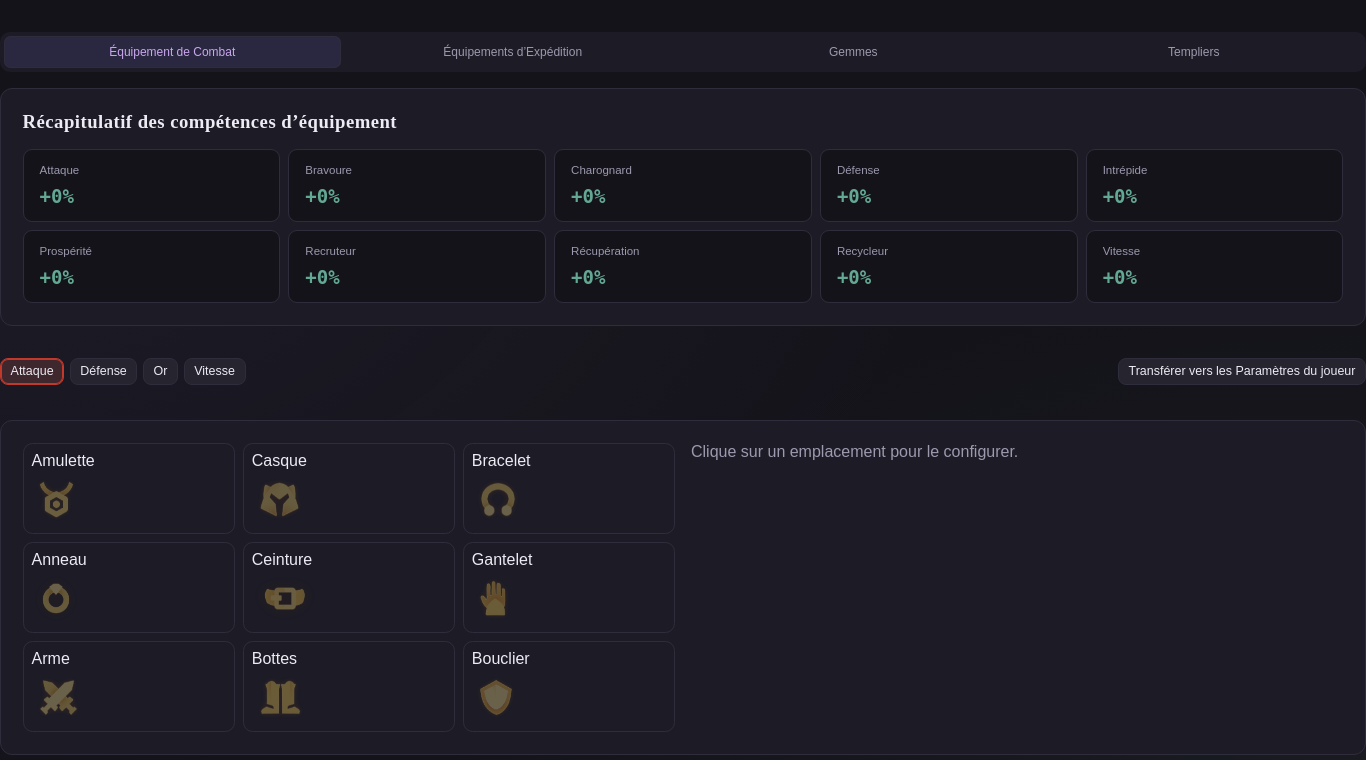
SkillsCalculators › shows the budget distribution as the primary result
Click the tab "Gemmes" at (853,52), box [685, 36, 1022, 68]
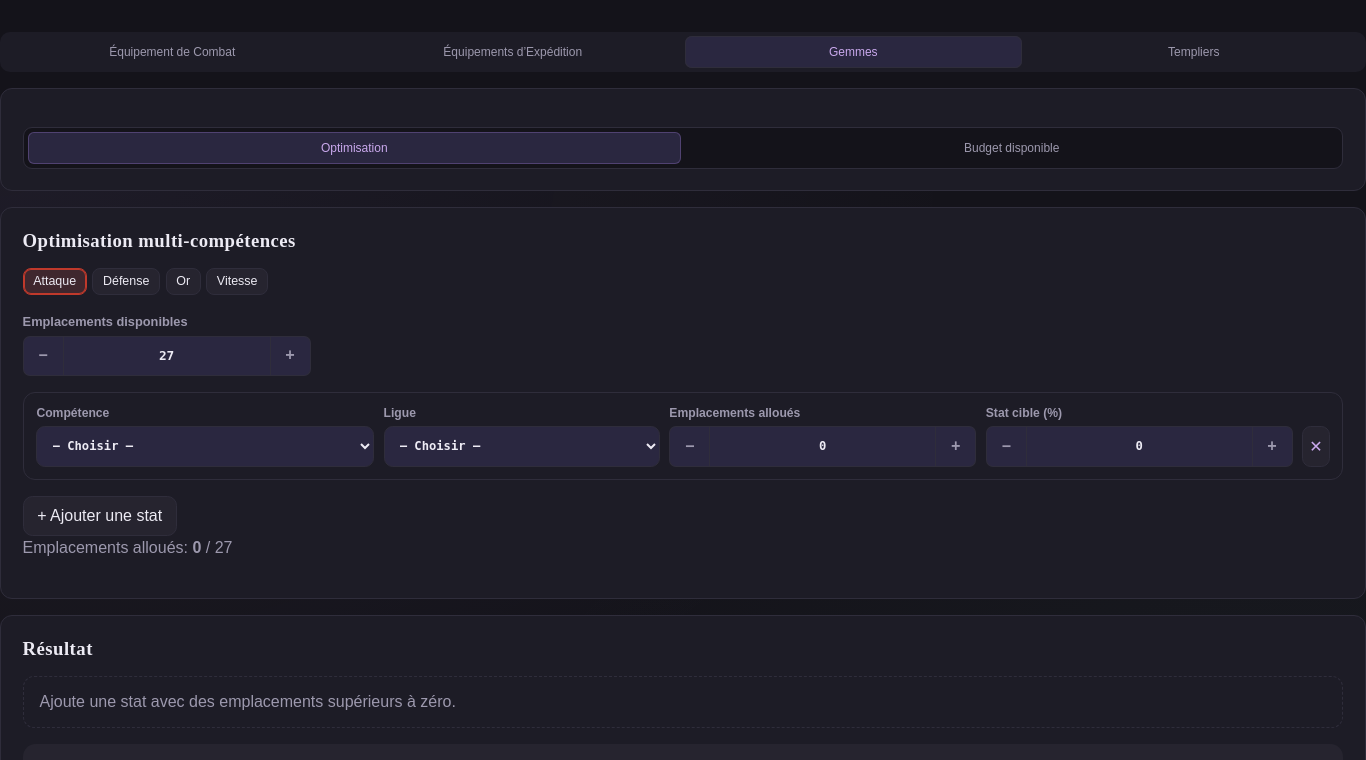
Click the tab "Budget disponible" at (1012,148), box [685, 132, 1338, 164]
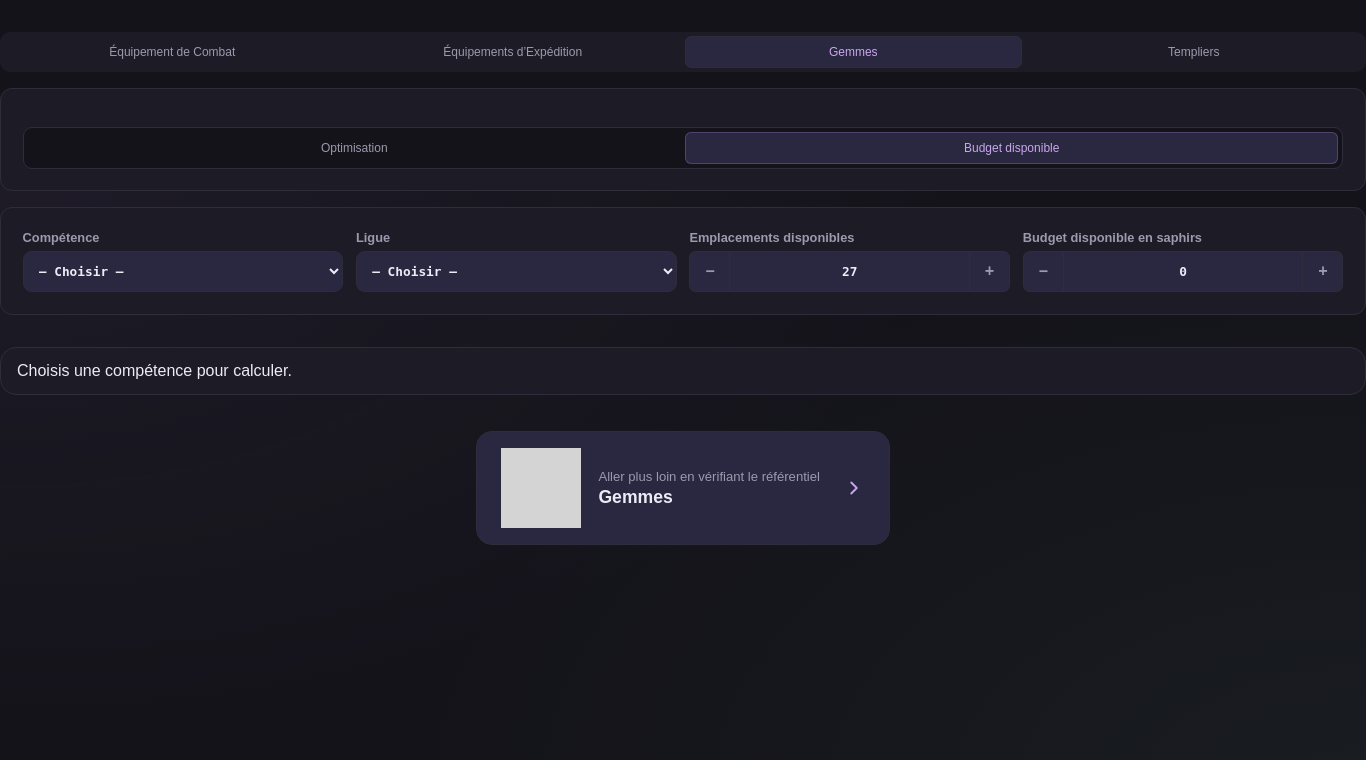
Note: Bloc 82/D: no skill pre-selected any more — pick one explicitly.
Select "Intrépide" in the dropdown labelled "Compétence" at (183,272), box [23, 251, 343, 292]
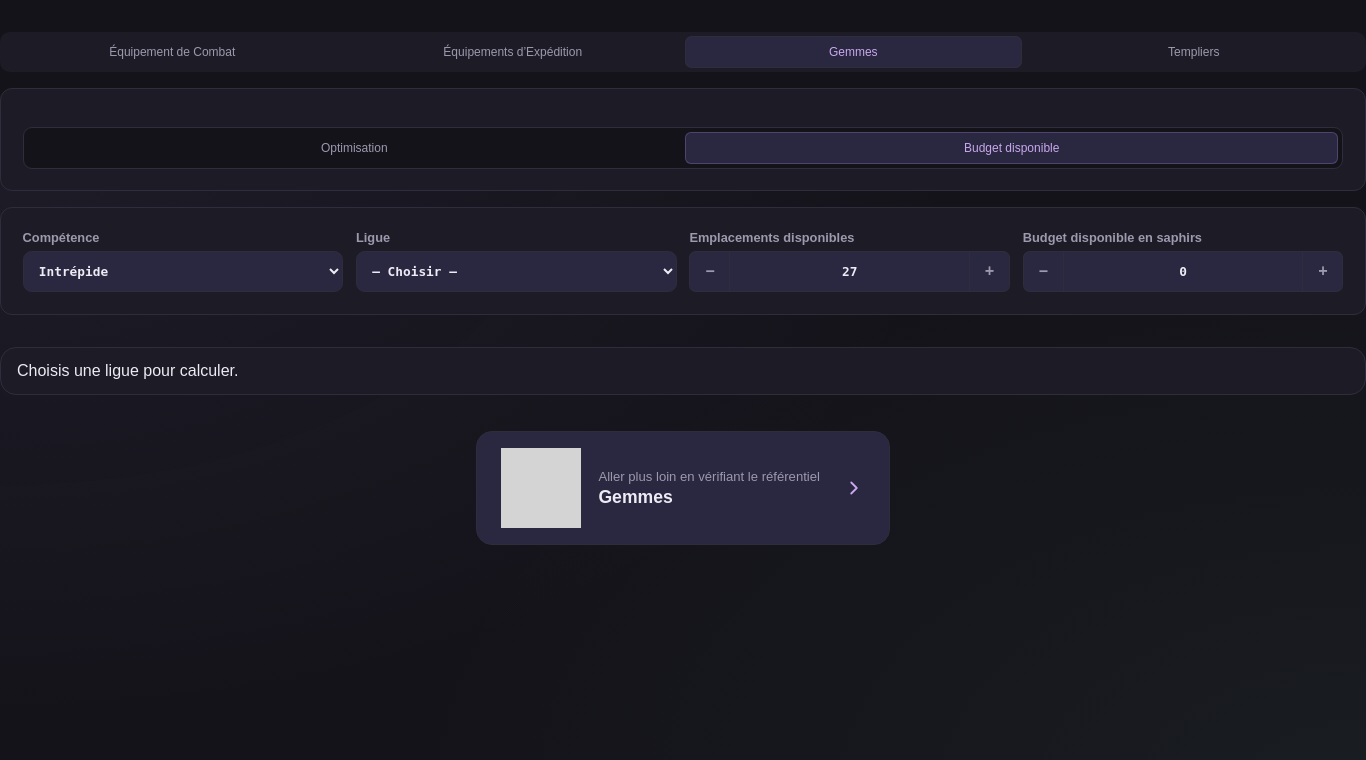
Check: the dropdown labelled "Ligue" shows "— Choisir —"
Select "Légende" in the dropdown labelled "Ligue" at (516,272), box [356, 251, 677, 292]
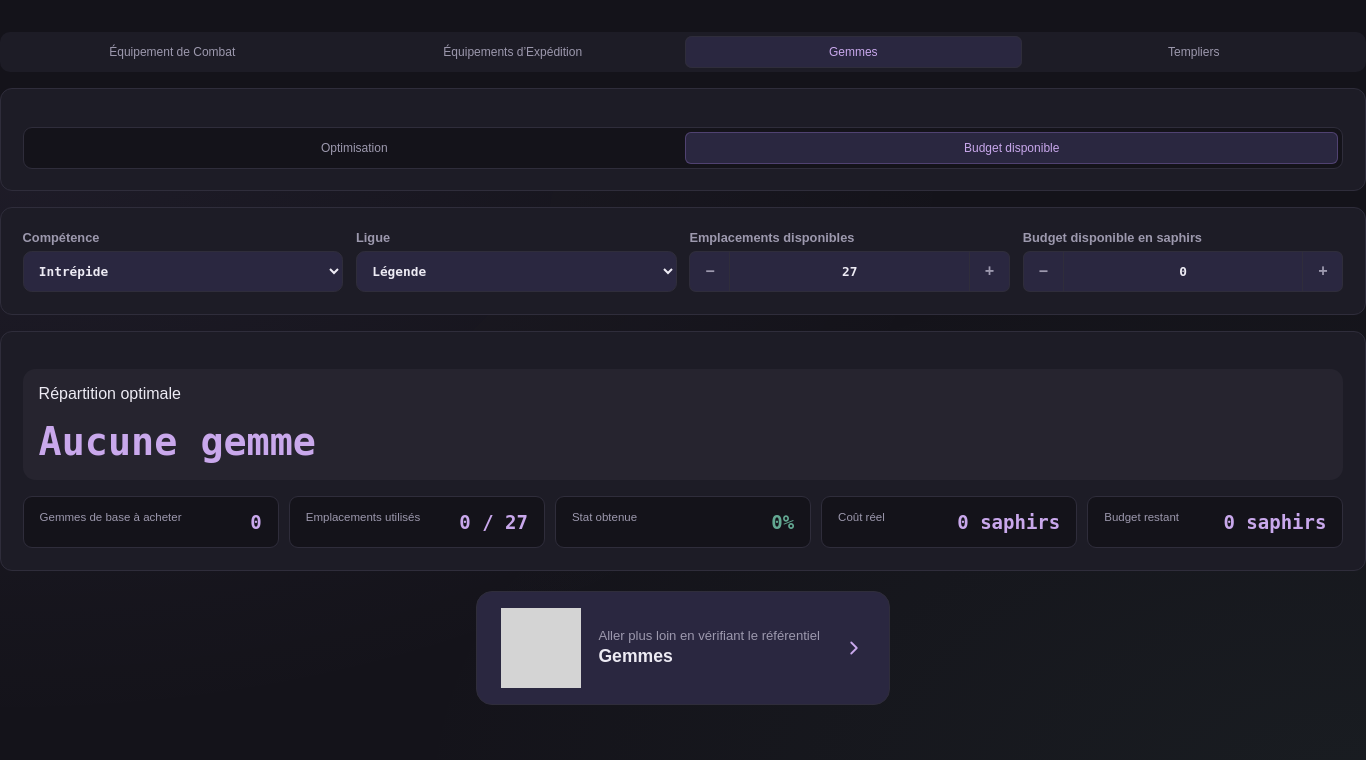
Replace the text in the number field named "Emplacements budget" with "3" at (850,272), box [729, 251, 970, 292]
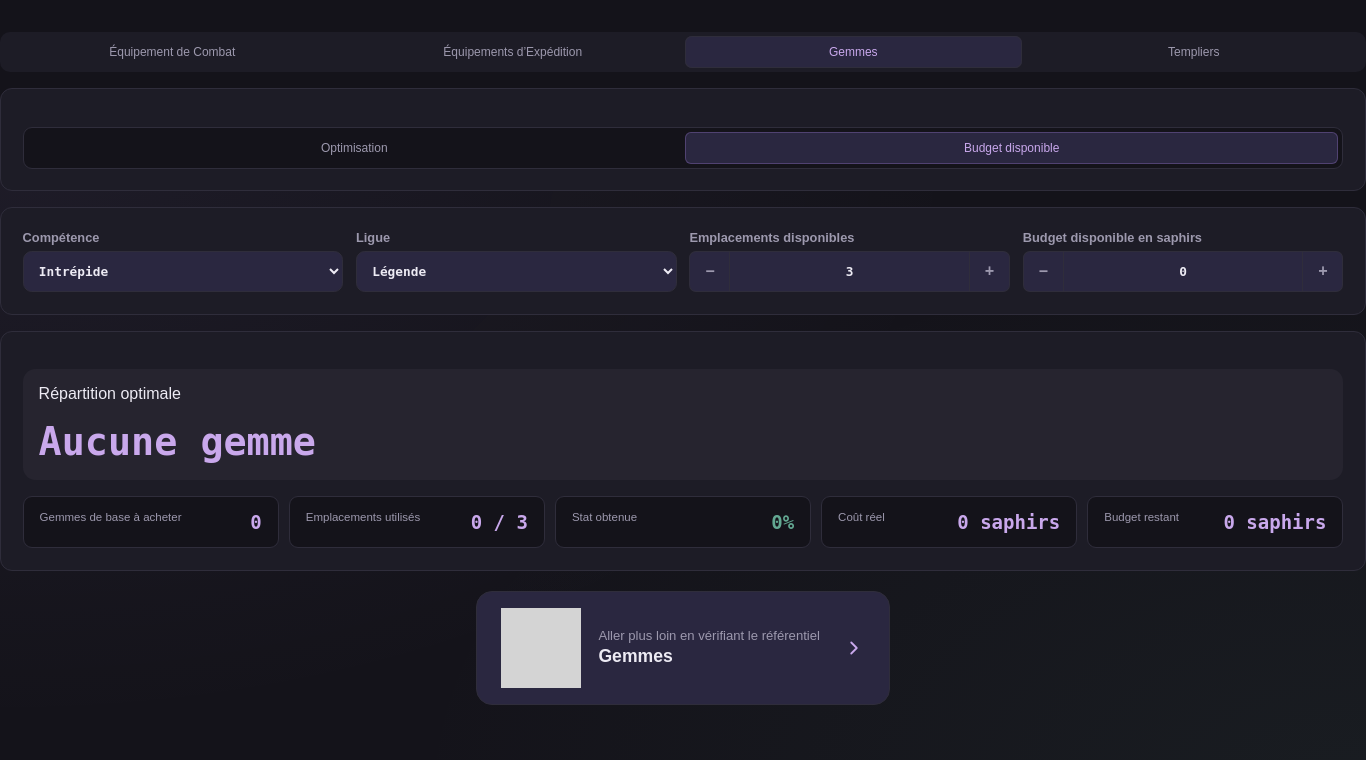
Replace the text in the number field named "Budget disponible en saphirs" with "112000" at (1183,272), box [1063, 251, 1303, 292]
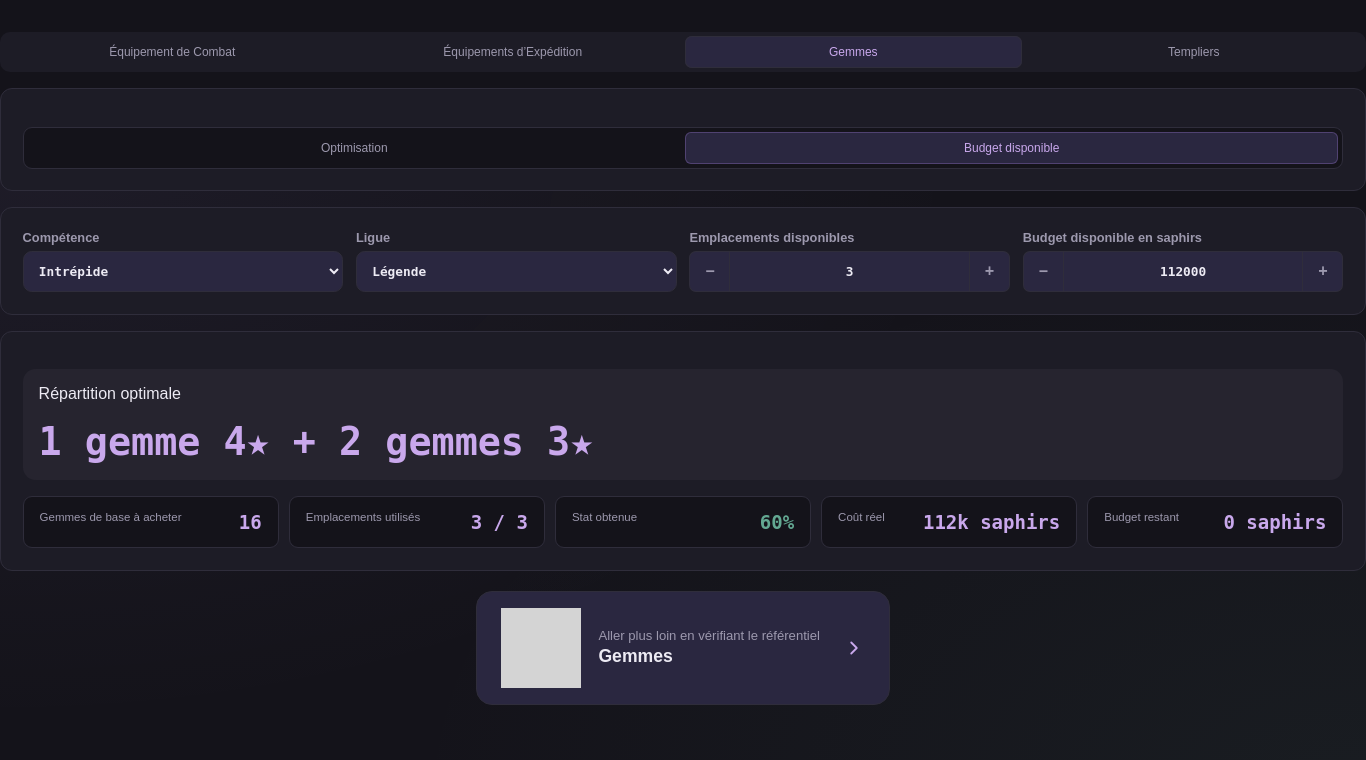
Check: the text with test id "gem-budget-distribution" reads "1 gemme 4★ + 2 gemmes 3★", box [39, 419, 593, 464]
